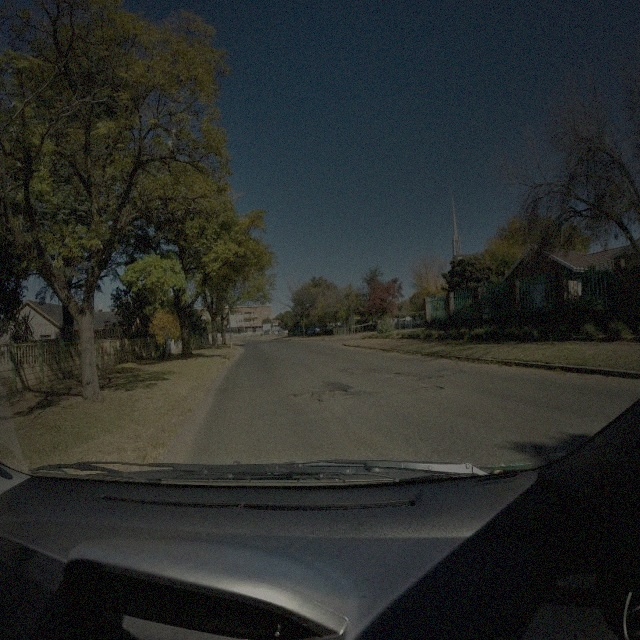pothole: (320, 387, 350, 397), (416, 382, 446, 391), (286, 390, 315, 399)
